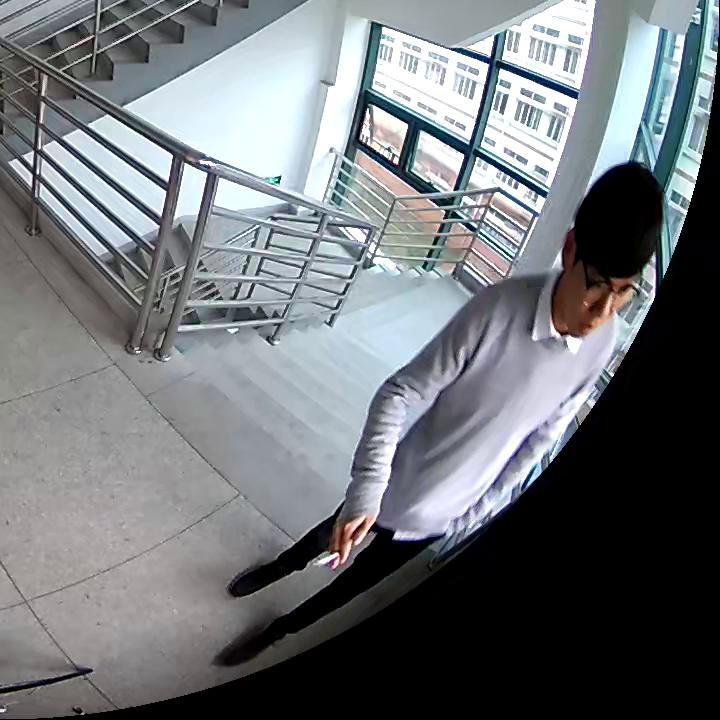handsmoke: (317, 512, 378, 571)
mouthwithoutsmoke: (553, 161, 665, 340)
